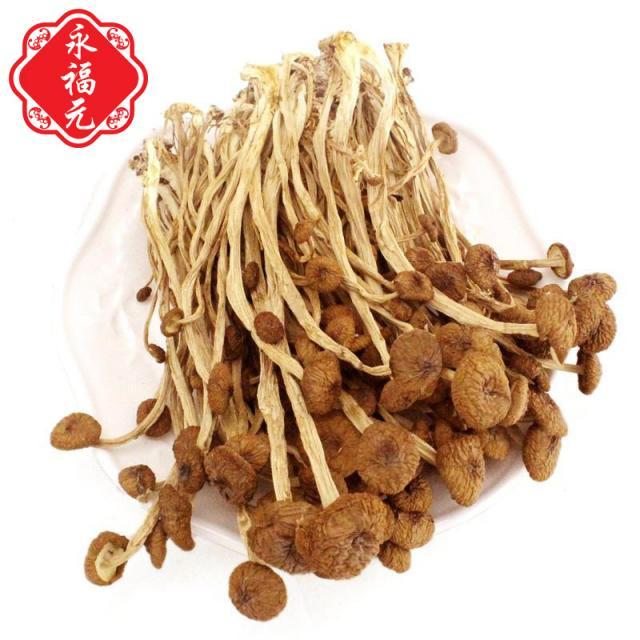Agrocybe aegerita: (70, 47, 616, 622)
